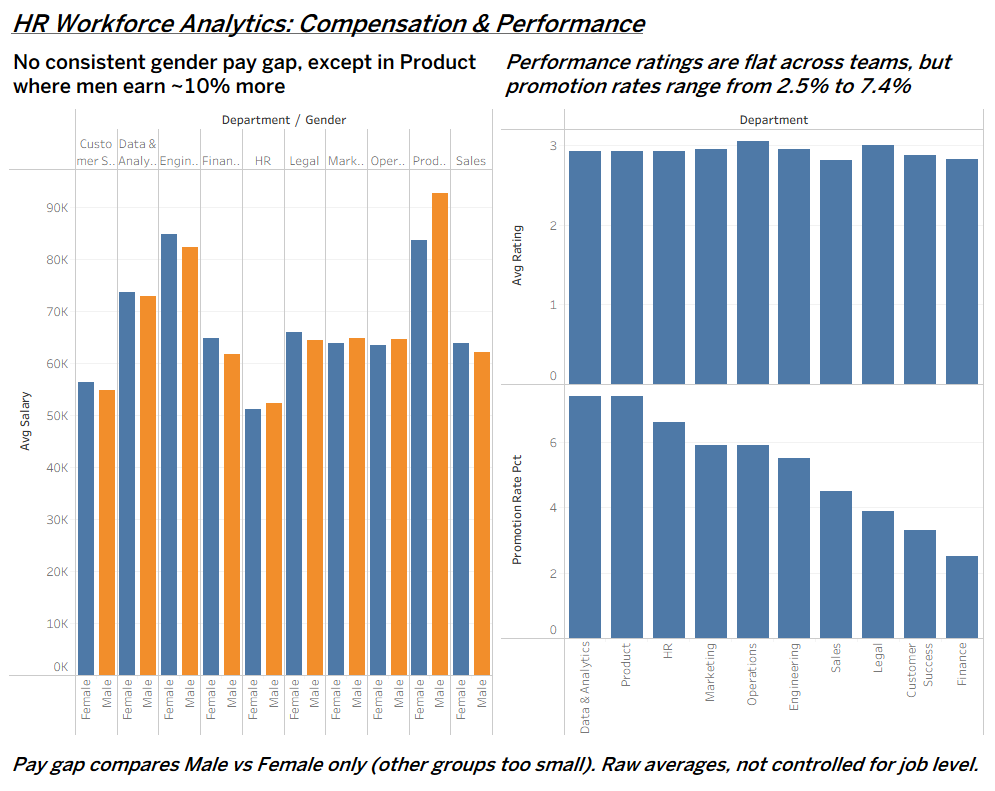

The page's visual inventory and layout, read from the dashboard file:
{"tool":"tableau","page":{"name":"Compensation & Performance","canvas":[1000,800],"ordinal":0},"visuals":[{"type":"title","box":[8,8,984,37]},{"type":"worksheet","title":"Salary by dept & gender","mark":"Automatic","rows":["avg_salary"],"cols":["department","gender"],"box":[8,45,492,698]},{"type":"worksheet","title":"Rating & promotions. Data","mark":"Automatic","rows":["avg_rating","promotion_rate_pct"],"cols":["department"],"box":[500,45,492,698]},{"type":"text","box":[8,743,984,49]}]}

Visuals, with their boxes in screenshot pixels (x1, y1, x2, y2), scaled from the page's 1000x800 canvas onto the 995x791 screenshot:
title: (x1=8, y1=8, x2=987, y2=44)
"Salary by dept & gender" worksheet: (x1=8, y1=44, x2=498, y2=735)
"Rating & promotions. Data" worksheet: (x1=498, y1=44, x2=987, y2=735)
text: (x1=8, y1=735, x2=987, y2=783)
